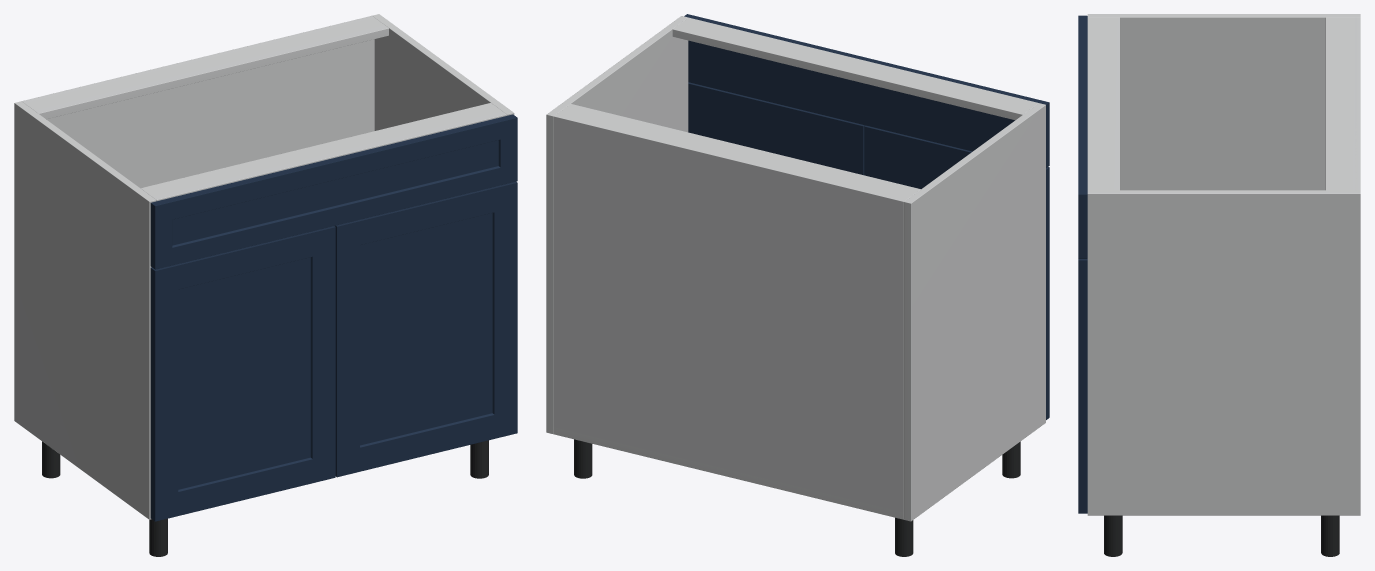
The model's file is oppein-ply-bss-sb36.glb.
3 views of the same model, side by side, from view 1: azimuth 30°, elevation 25°; view 2: azimuth 150°, elevation 25°; view 3: azimuth 270°, elevation 25° (orthographic).
Parts seen in each view (by area): view 1: Door, Door.001, Cabinet side, Cabinet back, False drawer front, Top support rail, Cabinet side.001, Top support rail.001, Adjustable foot.001, Adjustable foot.003; view 2: Cabinet back, Cabinet side, False drawer front, Cabinet side.001, Door.001, Top support rail.001, Door, Top support rail, Cabinet bottom, Adjustable foot, Adjustable foot.002; view 3: Cabinet side.001, Cabinet side, Top support rail.001, Top support rail, Door.001, False drawer front, Cabinet back, Adjustable foot.003, Adjustable foot.002.
Boxes of the visible parts, x1=… form: Door: x1=150, y1=226, x2=335, y2=521; Door.001: x1=335, y1=181, x2=517, y2=477; Cabinet side: x1=14, y1=101, x2=156, y2=519; Cabinet back: x1=21, y1=15, x2=374, y2=188; False drawer front: x1=150, y1=114, x2=517, y2=269; Top support rail: x1=23, y1=17, x2=388, y2=119; Cabinet side.001: x1=372, y1=14, x2=514, y2=130; Top support rail.001: x1=141, y1=103, x2=506, y2=201; Adjustable foot.001: x1=149, y1=518, x2=167, y2=556; Adjustable foot.003: x1=470, y1=440, x2=488, y2=478; Cabinet back: x1=553, y1=114, x2=905, y2=519; Cabinet side: x1=904, y1=103, x2=1045, y2=521; False drawer front: x1=684, y1=14, x2=1049, y2=167; Cabinet side.001: x1=546, y1=16, x2=688, y2=434; Door.001: x1=688, y1=82, x2=865, y2=175; Top support rail.001: x1=672, y1=17, x2=1038, y2=120; Door: x1=864, y1=125, x2=1049, y2=419; Top support rail: x1=556, y1=104, x2=920, y2=199; Cabinet bottom: x1=553, y1=427, x2=903, y2=518; Adjustable foot: x1=895, y1=517, x2=913, y2=556; Adjustable foot.002: x1=574, y1=439, x2=592, y2=478; Cabinet side.001: x1=1087, y1=190, x2=1360, y2=515; Cabinet side: x1=1087, y1=14, x2=1360, y2=190; Top support rail.001: x1=1087, y1=17, x2=1120, y2=190; Top support rail: x1=1325, y1=17, x2=1357, y2=190; Door.001: x1=1078, y1=259, x2=1087, y2=513; False drawer front: x1=1078, y1=15, x2=1087, y2=258; Cabinet back: x1=1355, y1=17, x2=1360, y2=190; Adjustable foot.003: x1=1104, y1=515, x2=1122, y2=556; Adjustable foot.002: x1=1321, y1=515, x2=1339, y2=556.
Bounding box in the file's own units: 0.9144 × 0.8763 × 0.6064.
